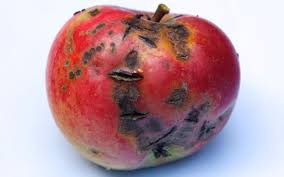damaged_apple: (45, 9, 241, 173)
